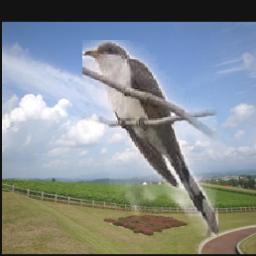Cuckoo: (83, 40, 219, 236)
